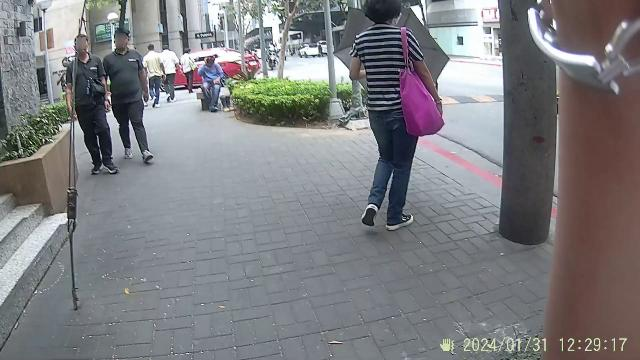potted_plant: (0, 102, 72, 214)
